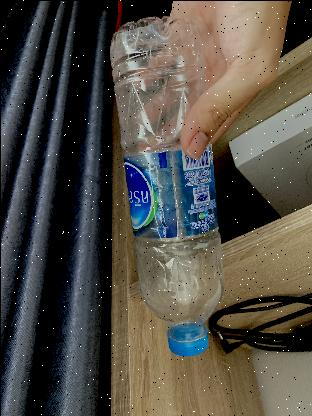Plastic Bottle: (107, 13, 223, 367)
